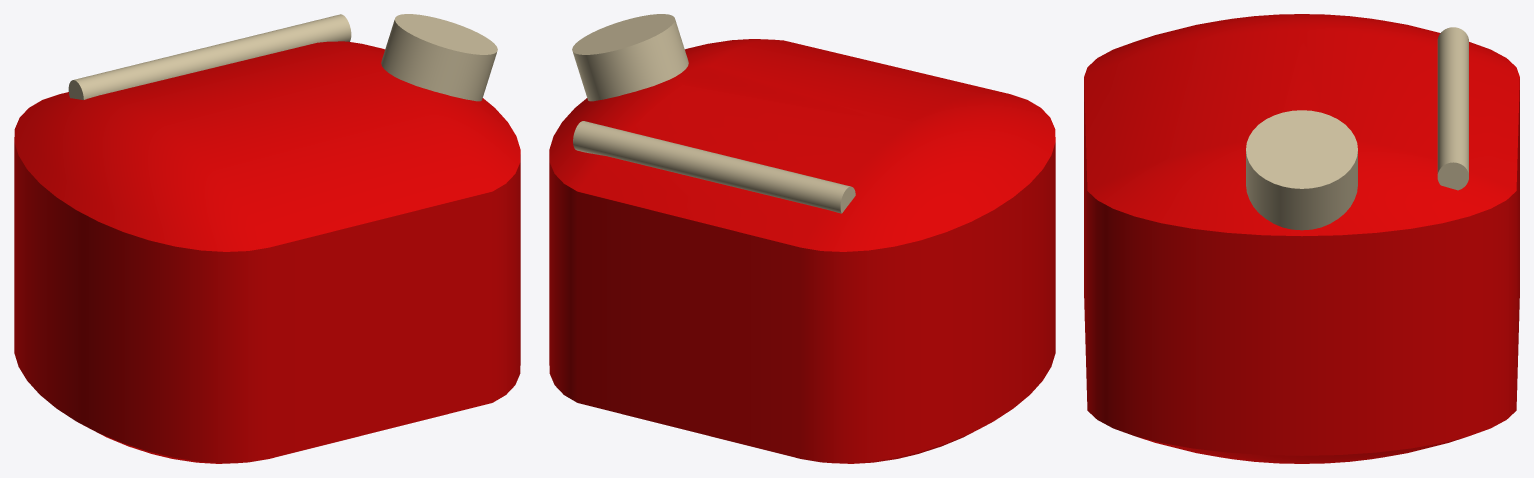
Rendered from ガソリンです.fbx.
3 renders of one model, left to right at view 1: azimuth 30°, elevation 25°; view 2: azimuth 150°, elevation 25°; view 3: azimuth 270°, elevation 25°, orthographic. The views are drawn at different scales.
Parts seen in each view (by area): view 1: オイルタンク, 円柱, 円柱_1; view 2: オイルタンク, 円柱_1, 円柱; view 3: オイルタンク, 円柱, 円柱_1.
Boxes of the visible parts, x1,y1,x2,y2 form: オイルタンク: [14, 41, 520, 463]; 円柱: [381, 14, 497, 101]; 円柱_1: [68, 14, 351, 99]; オイルタンク: [549, 39, 1055, 463]; 円柱_1: [573, 121, 855, 213]; 円柱: [572, 14, 688, 101]; オイルタンク: [1084, 14, 1519, 463]; 円柱: [1246, 110, 1357, 230]; 円柱_1: [1437, 27, 1468, 190].
Size of the model in its own units: 117 by 87.52 by 97.79.
